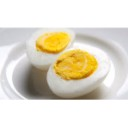begg: (48, 50, 109, 86)
